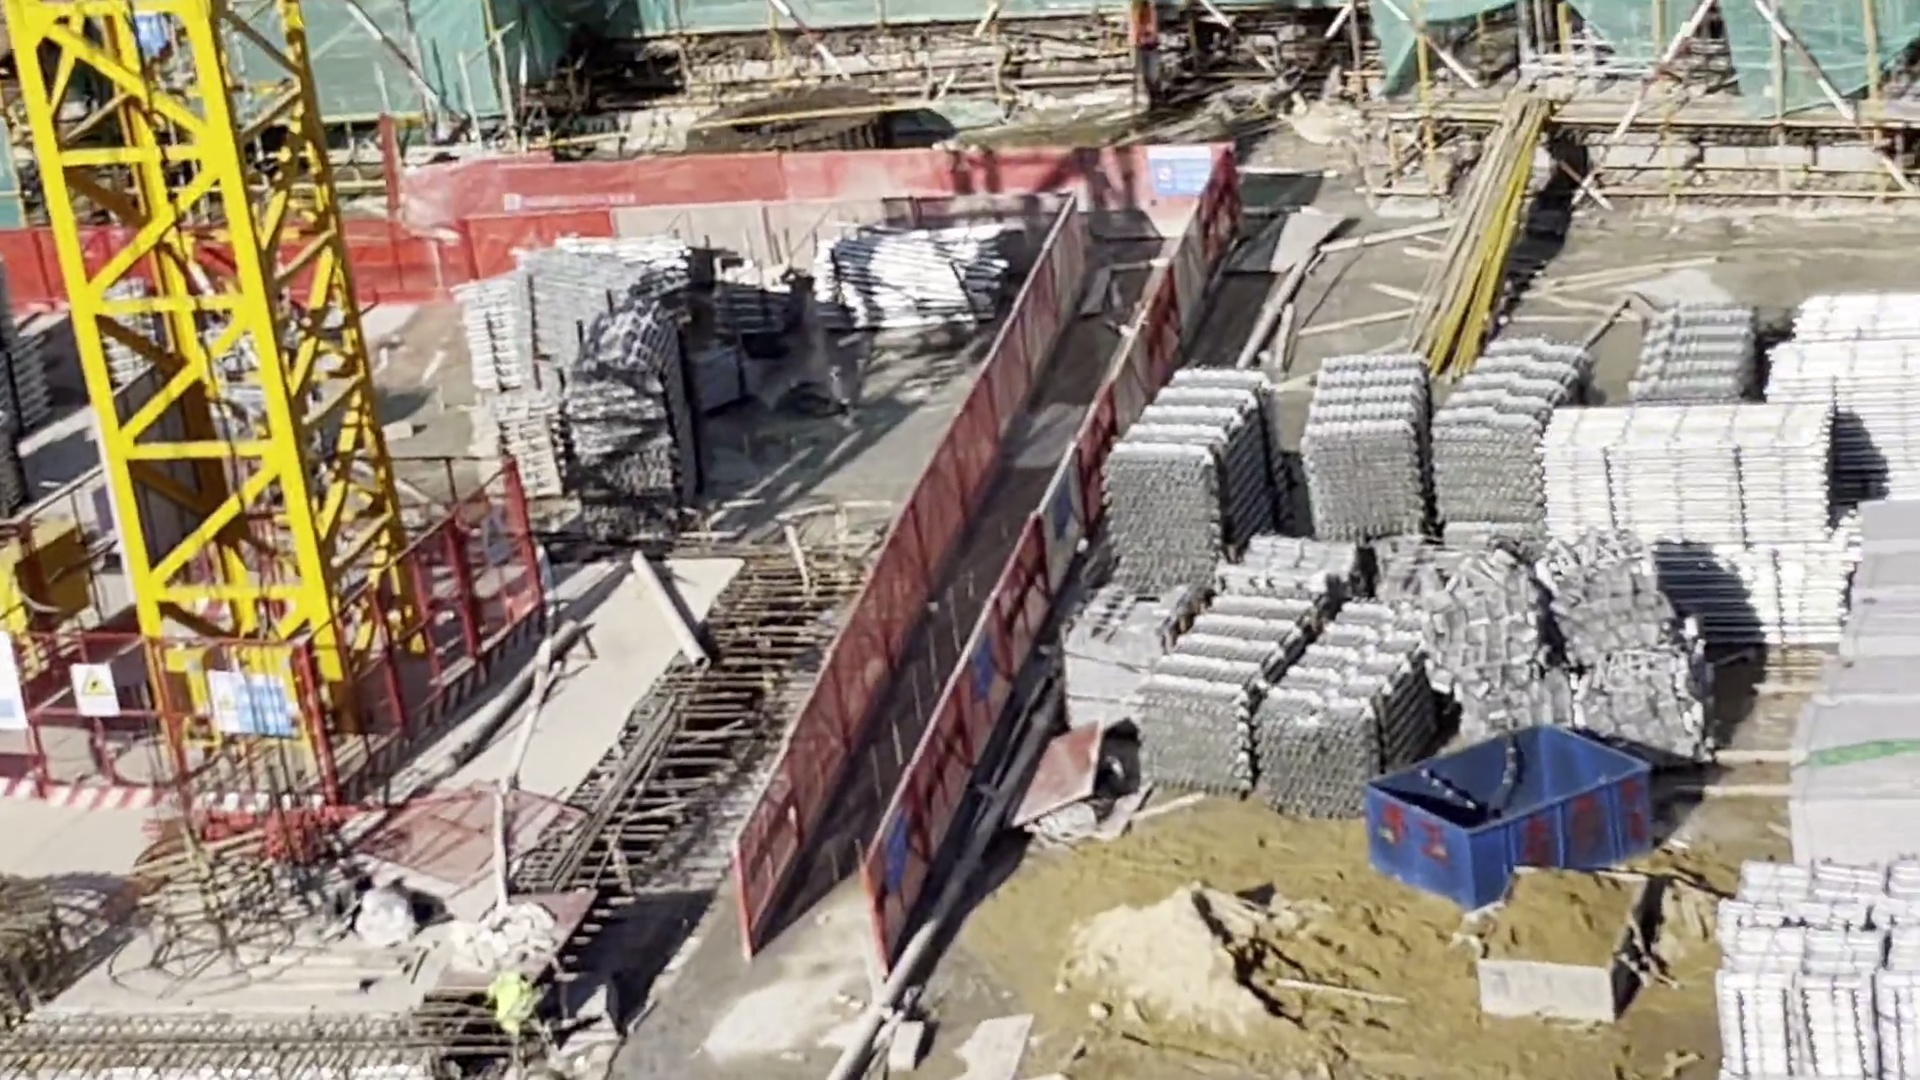ebox: (1, 517, 92, 634)
fence: (736, 200, 1208, 953), (343, 146, 1139, 299)
hopper: (1369, 731, 1654, 909), (1480, 869, 1650, 1025)
scaffold: (1549, 404, 1851, 636), (1135, 588, 1443, 810), (1304, 353, 1586, 524), (1716, 873, 1920, 1067), (1112, 372, 1286, 564), (1775, 293, 1920, 483), (465, 258, 700, 357), (568, 319, 688, 504), (828, 231, 1004, 331), (1640, 310, 1766, 404), (479, 401, 566, 501)
slogan: (204, 662, 290, 742), (1146, 145, 1216, 199), (67, 665, 119, 717), (965, 626, 994, 704), (885, 811, 906, 899), (477, 510, 508, 560)
